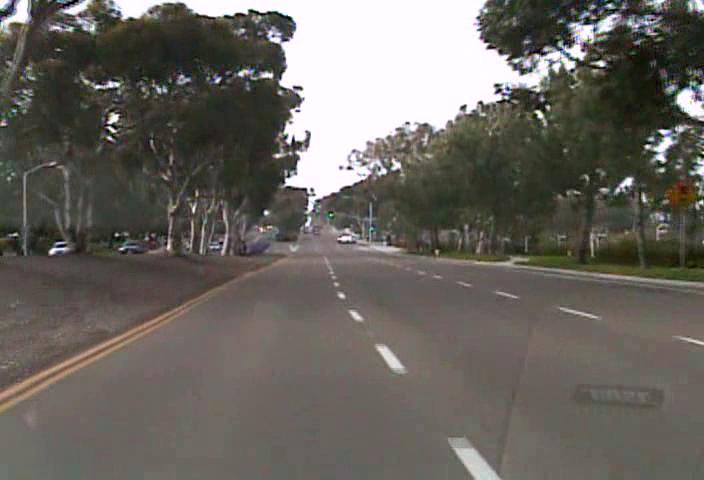signalAhead: (665, 178, 699, 212)
